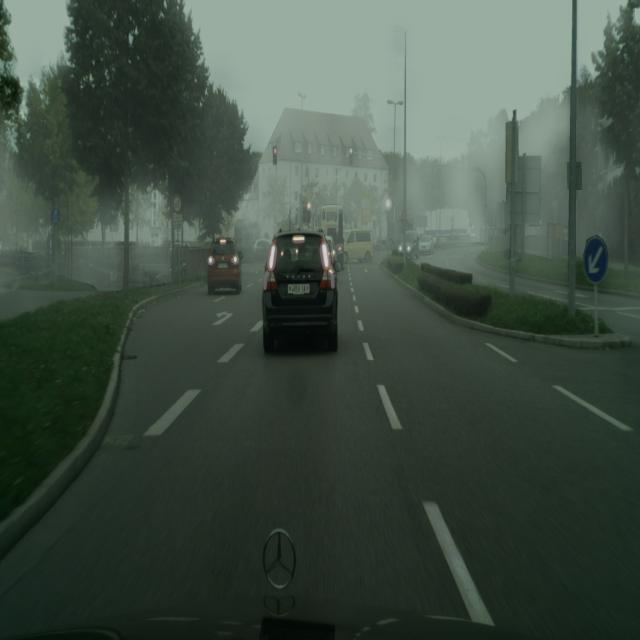person: (262, 231, 339, 354), (207, 238, 242, 295), (344, 229, 374, 263), (399, 229, 420, 260), (254, 238, 271, 259), (419, 234, 434, 257)
